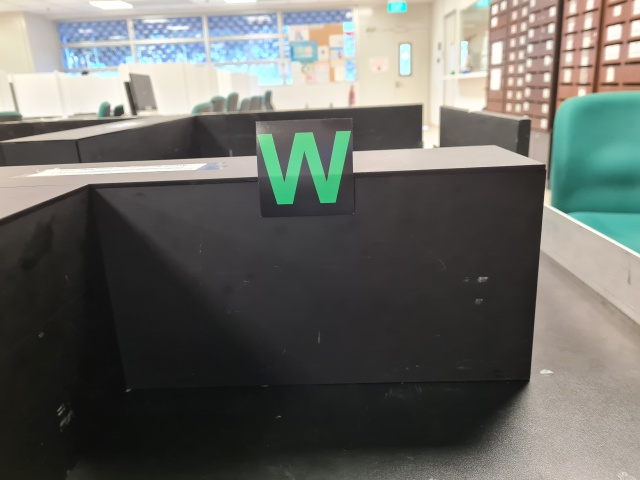alphabet_w: (256, 119, 355, 217)
